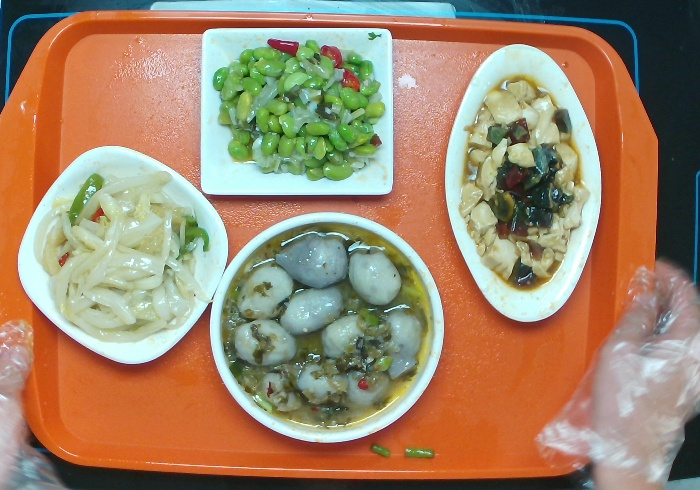HZYJPL-Si_Fang_Die: (194, 20, 400, 200)
HZYJPL-Si_Fang_Yuan_Die: (13, 142, 232, 371)
HZYJPL-Xiao_Yu_Die: (440, 41, 607, 328)
HZYJPL-Xiao_Yuan_Die: (204, 209, 449, 449)
